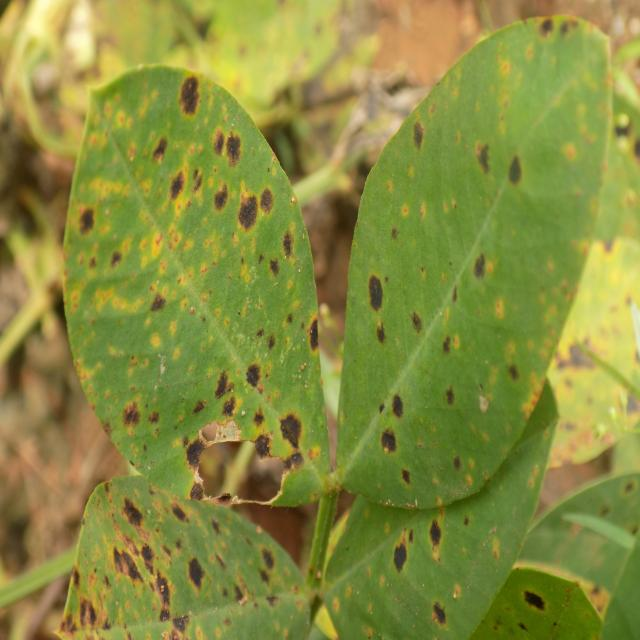Ground nut_tikka leaf spot: (343, 8, 606, 504), (61, 65, 338, 507)
